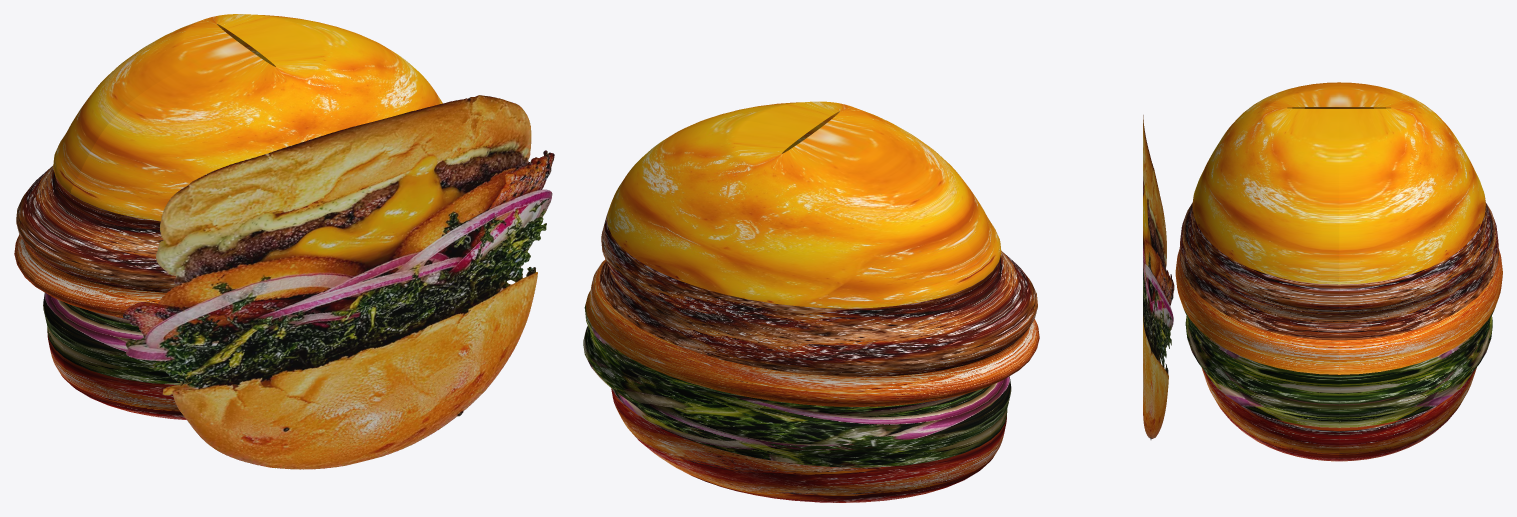
File: xverde.glb
3 views of the same model, side by side, from view 1: azimuth 30°, elevation 25°; view 2: azimuth 150°, elevation 25°; view 3: azimuth 270°, elevation 25° (orthographic). The views are drawn at different scales.
Visible parts, largest first — view 1: Frente do produto fotografada · xverde, Volume frontal · ingrediente (0, 0) · 66, Verso · ingrediente (0, 0) · 66, Volume frontal · ingrediente (2, 1) · 49, Volume frontal · ingrediente (2, 0) · 20, Volume frontal · ingrediente (1, 0) · 0, Volume frontal · ingrediente (0, 1) · 40, Verso · ingrediente (2, 1) · 49, Verso · ingrediente (2, 0) · 20, Verso · ingrediente (0, 1) · 40; view 2: Verso · ingrediente (0, 0) · 66, Verso · ingrediente (2, 1) · 49, Verso · ingrediente (2, 0) · 20, Verso · ingrediente (0, 1) · 40, Verso · ingrediente (1, 0) · 0, Volume frontal · ingrediente (0, 0) · 66, Volume frontal · ingrediente (2, 1) · 49, Volume frontal · ingrediente (2, 0) · 20, Volume frontal · ingrediente (0, 1) · 40; view 3: Volume frontal · ingrediente (0, 0) · 66, Verso · ingrediente (0, 0) · 66, Volume frontal · ingrediente (2, 1) · 49, Verso · ingrediente (2, 1) · 49, Volume frontal · ingrediente (2, 0) · 20, Verso · ingrediente (2, 0) · 20, Frente do produto fotografada · xverde, Volume frontal · ingrediente (0, 1) · 40, Verso · ingrediente (0, 1) · 40, Volume frontal · ingrediente (1, 0) · 0, Verso · ingrediente (1, 0) · 0.
Part boxes in pixels (<box>): Frente do produto fotografada · xverde: <box>123,95,554,469</box>; Volume frontal · ingrediente (0, 0) · 66: <box>70,33,442,221</box>; Verso · ingrediente (0, 0) · 66: <box>53,14,389,193</box>; Volume frontal · ingrediente (2, 1) · 49: <box>35,194,176,292</box>; Volume frontal · ingrediente (2, 0) · 20: <box>60,306,196,384</box>; Volume frontal · ingrediente (1, 0) · 0: <box>63,357,186,419</box>; Volume frontal · ingrediente (0, 1) · 40: <box>33,261,166,317</box>; Verso · ingrediente (2, 1) · 49: <box>16,165,73,259</box>; Verso · ingrediente (2, 0) · 20: <box>43,293,72,356</box>; Verso · ingrediente (0, 1) · 40: <box>14,234,42,285</box>; Verso · ingrediente (0, 0) · 66: <box>607,121,983,308</box>; Verso · ingrediente (2, 1) · 49: <box>599,209,1019,376</box>; Verso · ingrediente (2, 0) · 20: <box>583,304,993,467</box>; Verso · ingrediente (0, 1) · 40: <box>585,259,1020,406</box>; Verso · ingrediente (1, 0) · 0: <box>611,388,990,502</box>; Volume frontal · ingrediente (0, 0) · 66: <box>669,101,1001,278</box>; Volume frontal · ingrediente (2, 1) · 49: <box>981,251,1037,343</box>; Volume frontal · ingrediente (2, 0) · 20: <box>981,376,1011,439</box>; Volume frontal · ingrediente (0, 1) · 40: <box>1011,319,1039,369</box>; Volume frontal · ingrediente (0, 0) · 66: <box>1192,82,1339,284</box>; Verso · ingrediente (0, 0) · 66: <box>1339,82,1485,284</box>; Volume frontal · ingrediente (2, 1) · 49: <box>1179,197,1339,340</box>; Verso · ingrediente (2, 1) · 49: <box>1339,198,1498,340</box>; Volume frontal · ingrediente (2, 0) · 20: <box>1184,310,1339,427</box>; Verso · ingrediente (2, 0) · 20: <box>1339,310,1494,427</box>; Frente do produto fotografada · xverde: <box>1143,115,1174,439</box>; Volume frontal · ingrediente (0, 1) · 40: <box>1175,249,1339,374</box>; Verso · ingrediente (0, 1) · 40: <box>1339,248,1502,374</box>; Volume frontal · ingrediente (1, 0) · 0: <box>1201,367,1339,461</box>; Verso · ingrediente (1, 0) · 0: <box>1339,367,1476,461</box>.
Bounding box in the file's own units: 0.17 × 0.1269 × 0.1376.
2 materials, 2 textured.
